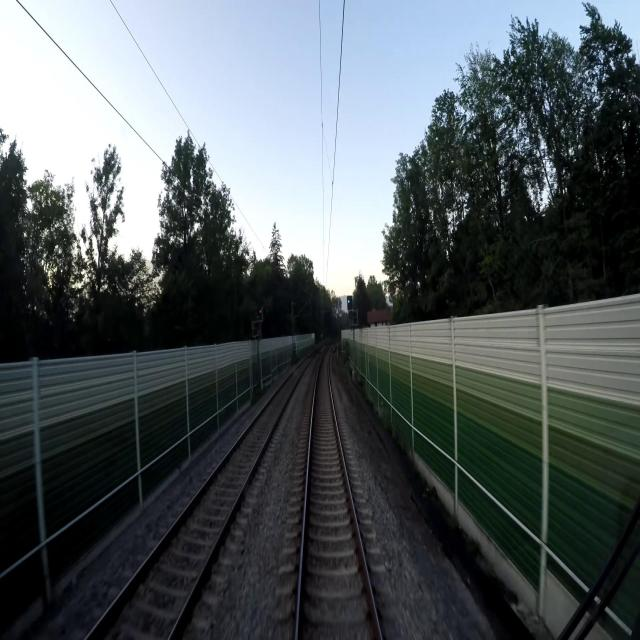rail-track: (89, 360, 307, 639), (299, 344, 377, 639)
